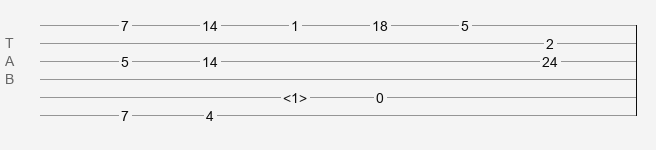0: (376, 90, 384, 100)
1: (291, 18, 299, 28)
14: (202, 54, 218, 64), (202, 18, 218, 28)
18: (372, 18, 388, 28)
2: (546, 36, 554, 46)
24: (542, 54, 558, 64)
4: (206, 108, 214, 118)
5: (121, 54, 129, 64), (461, 18, 469, 28)
7: (121, 108, 129, 118), (121, 18, 129, 28)
harmonic: (283, 90, 307, 100)
